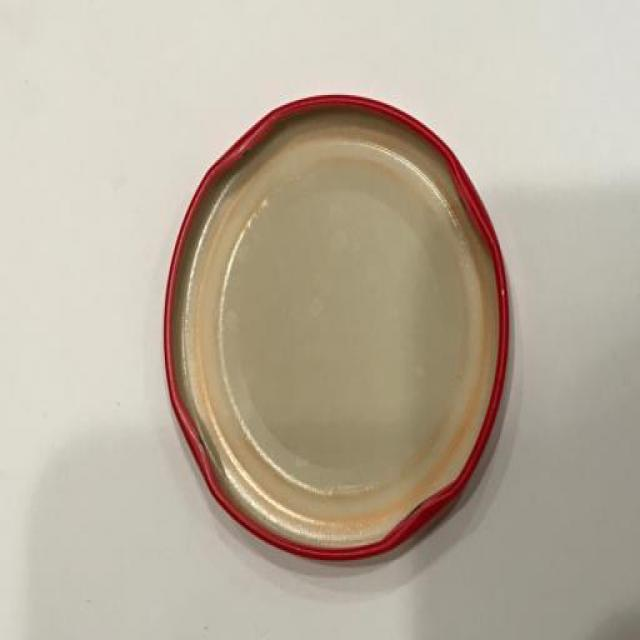metel: (126, 74, 534, 640)
